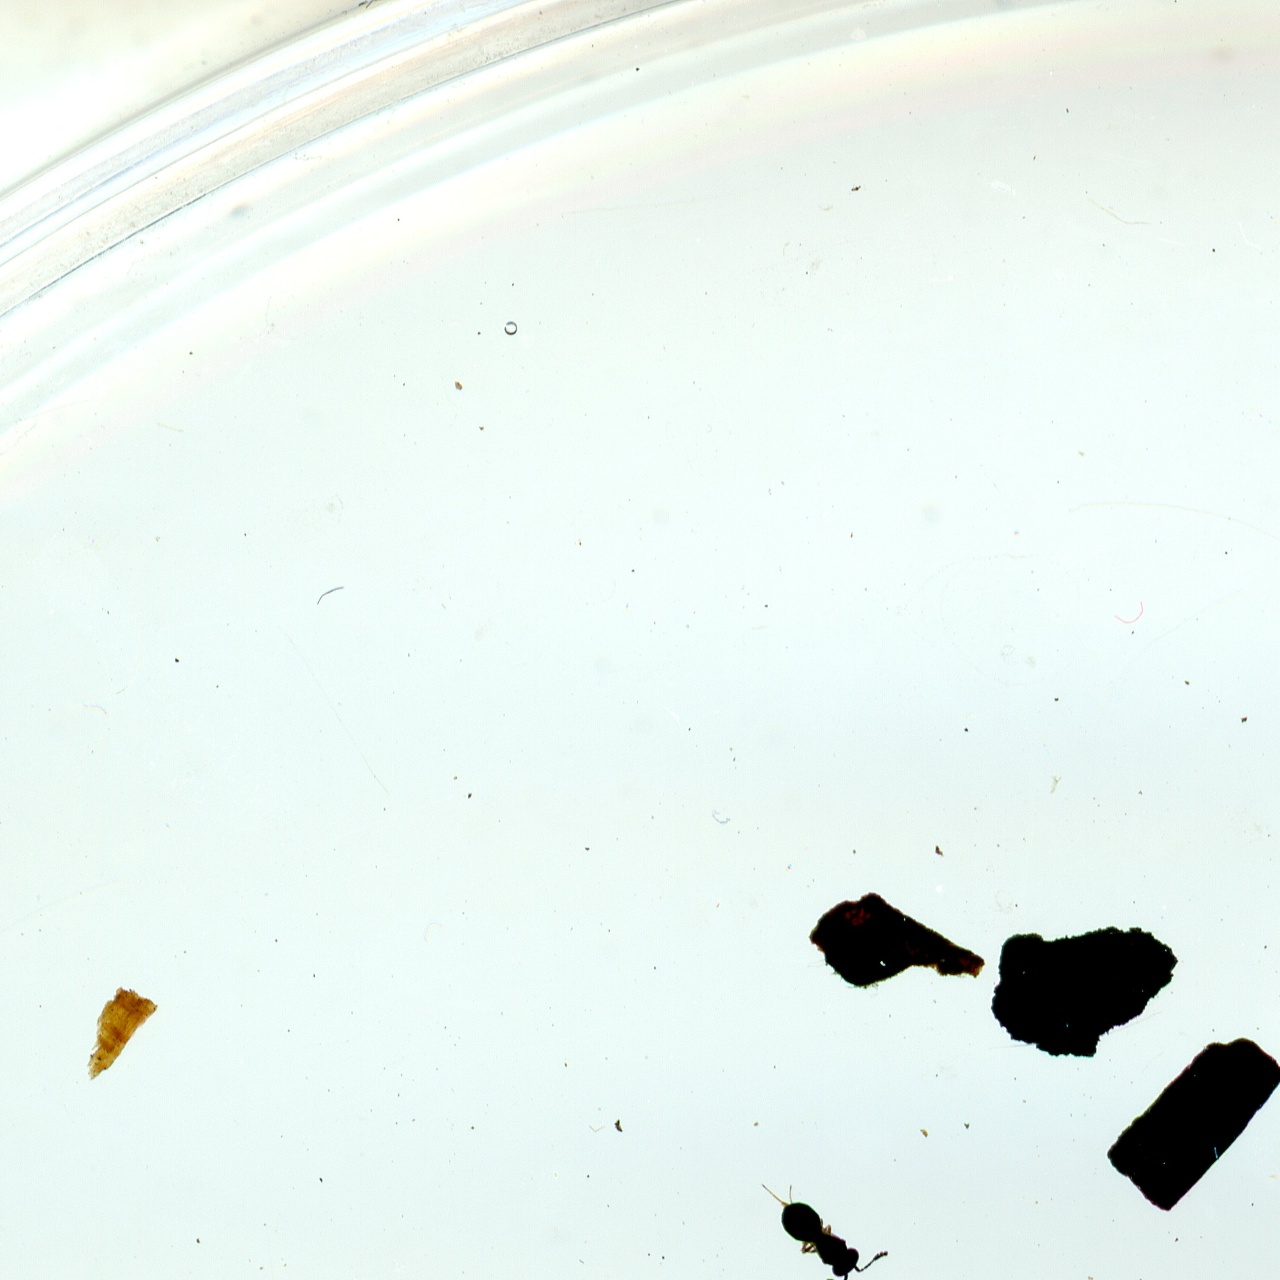arthropod: (755, 1179, 892, 1280)
